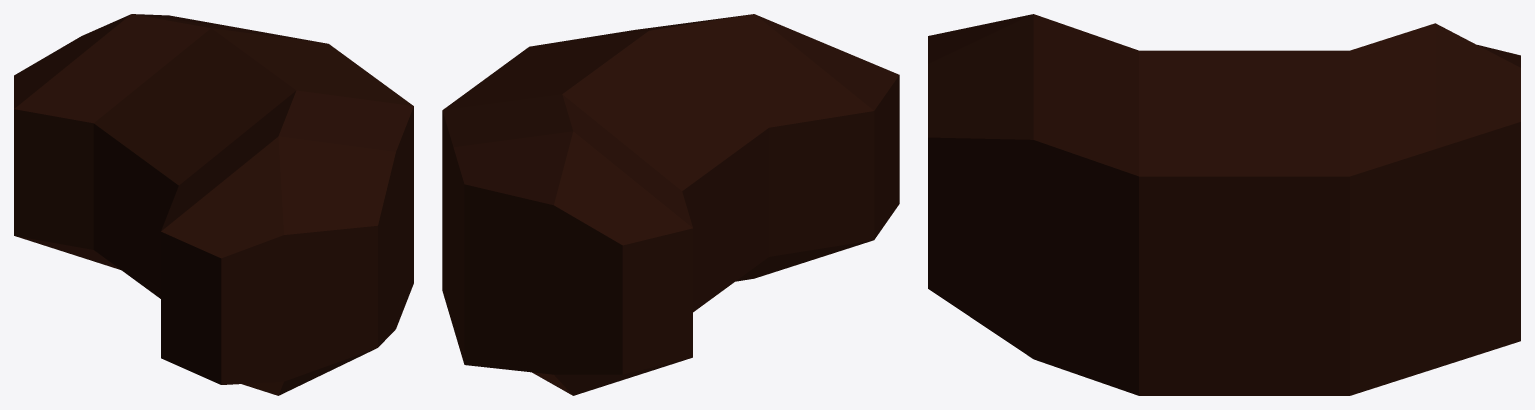
Rendered from WashedBlackBean.obj.
3 views of the same model, side by side, from view 1: azimuth 30°, elevation 25°; view 2: azimuth 150°, elevation 25°; view 3: azimuth 270°, elevation 25° (orthographic). The views are drawn at different scales.
Parts seen in each view (by area): view 1: Cube.001; view 2: Cube.001; view 3: Cube.001.
Part boxes in pixels (bbox=[...]): Cube.001: bbox=[14, 14, 413, 395]; Cube.001: bbox=[442, 14, 899, 395]; Cube.001: bbox=[928, 14, 1520, 395].
Bounding box in the file's own units: 0.0168 × 0.0141 × 0.0235.
